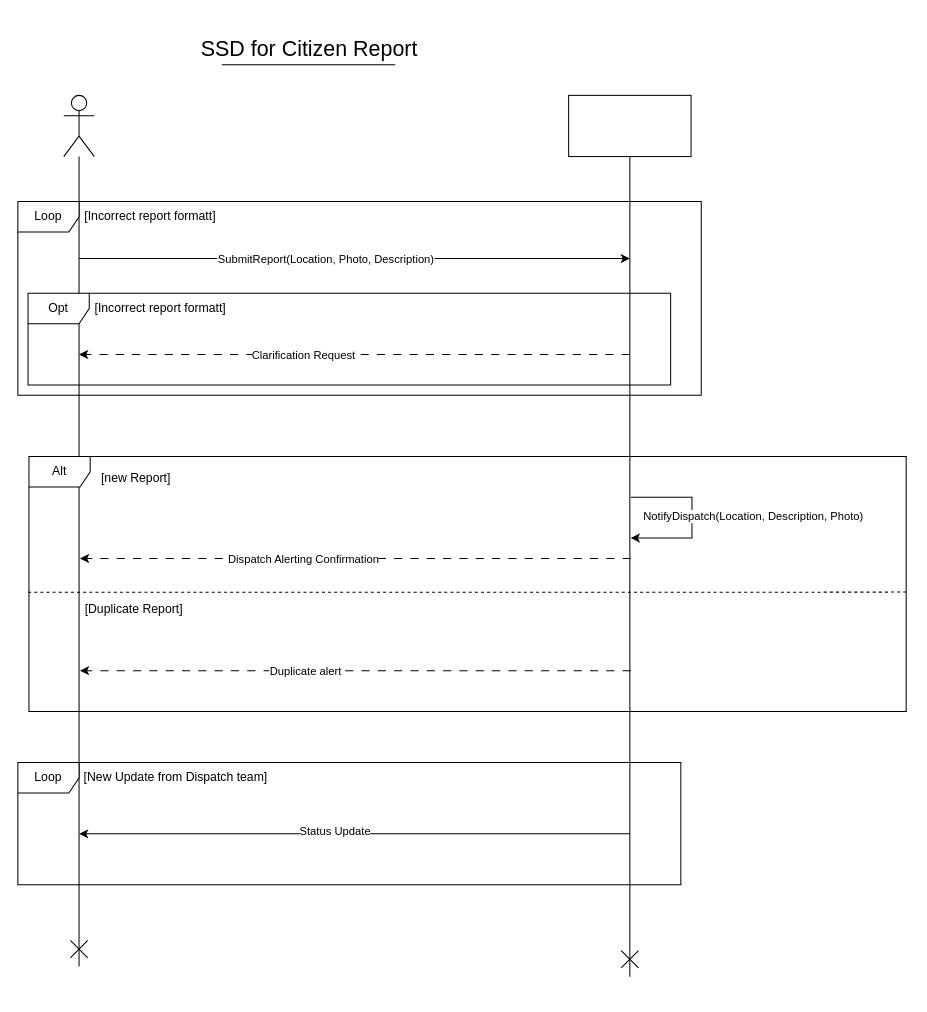
The diagram is 927 pixels wide and 1012 high, and some of its shapes have lost their labels. Each missing label, with the centre of its shape:
:System: the point at 629,125
Citizen: the point at 78,125
